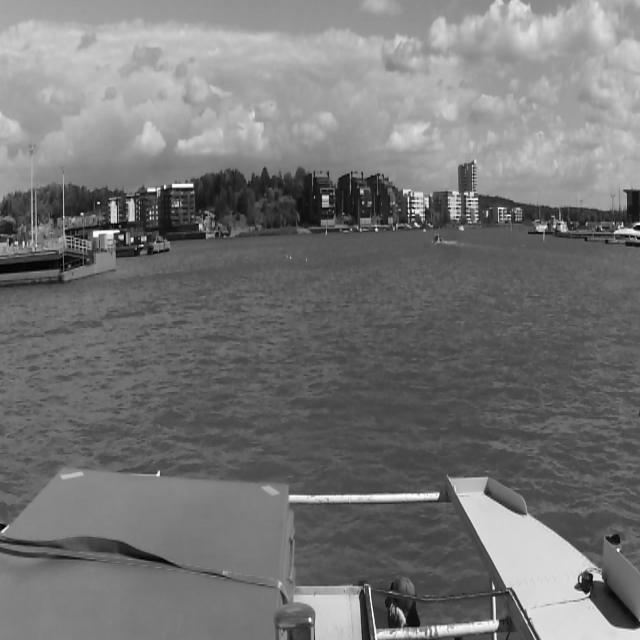ship: (616, 219, 638, 241), (432, 230, 444, 246)
